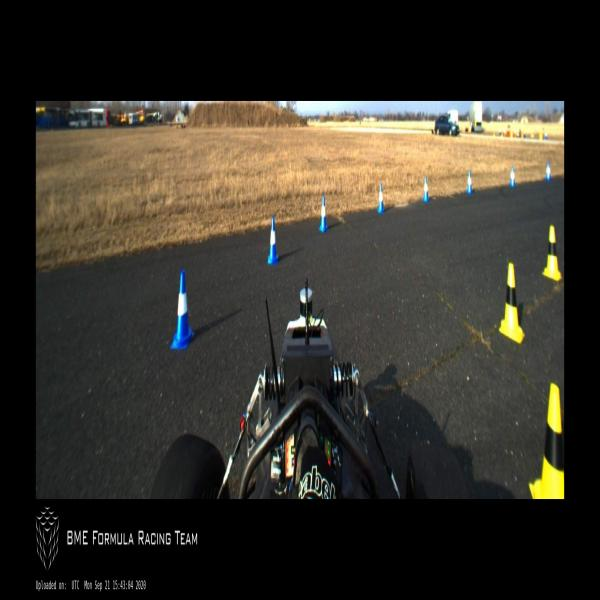blue_cone: (169, 268, 195, 352), (267, 217, 279, 265), (319, 195, 328, 233), (377, 183, 386, 215), (422, 174, 429, 204), (466, 168, 473, 194), (509, 166, 516, 189), (545, 161, 552, 182)
yellow_cone: (527, 378, 564, 498), (499, 261, 525, 345), (542, 225, 563, 281)
